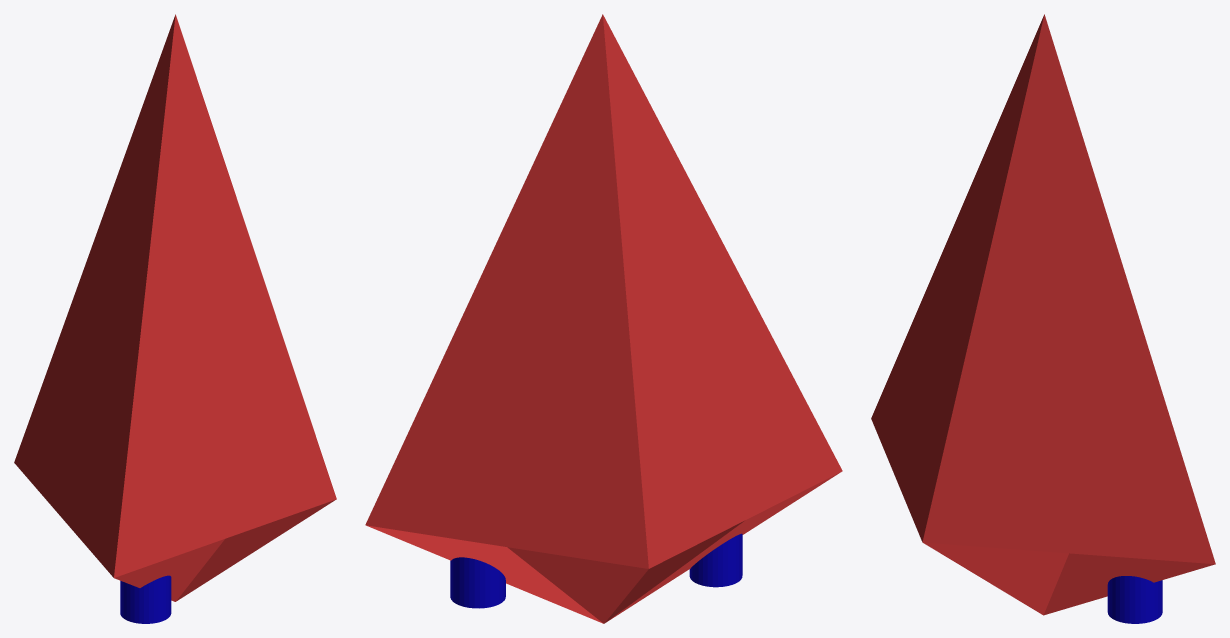
The model's file is DeadlyShape2.fbx.
3 renders of one model, left to right at view 1: azimuth 30°, elevation 25°; view 2: azimuth 150°, elevation 25°; view 3: azimuth 270°, elevation 25°, orthographic. The views are drawn at different scales.
Parts seen in each view (by area): view 1: DeadlyShape; view 2: DeadlyShape; view 3: DeadlyShape.
Boxes of the visible parts, x1,y1,x2,y2 form: DeadlyShape: (14,14,336,623); DeadlyShape: (365,14,842,623); DeadlyShape: (871,14,1215,623).
Bounding box in the file's own units: 200 × 385 × 200.
